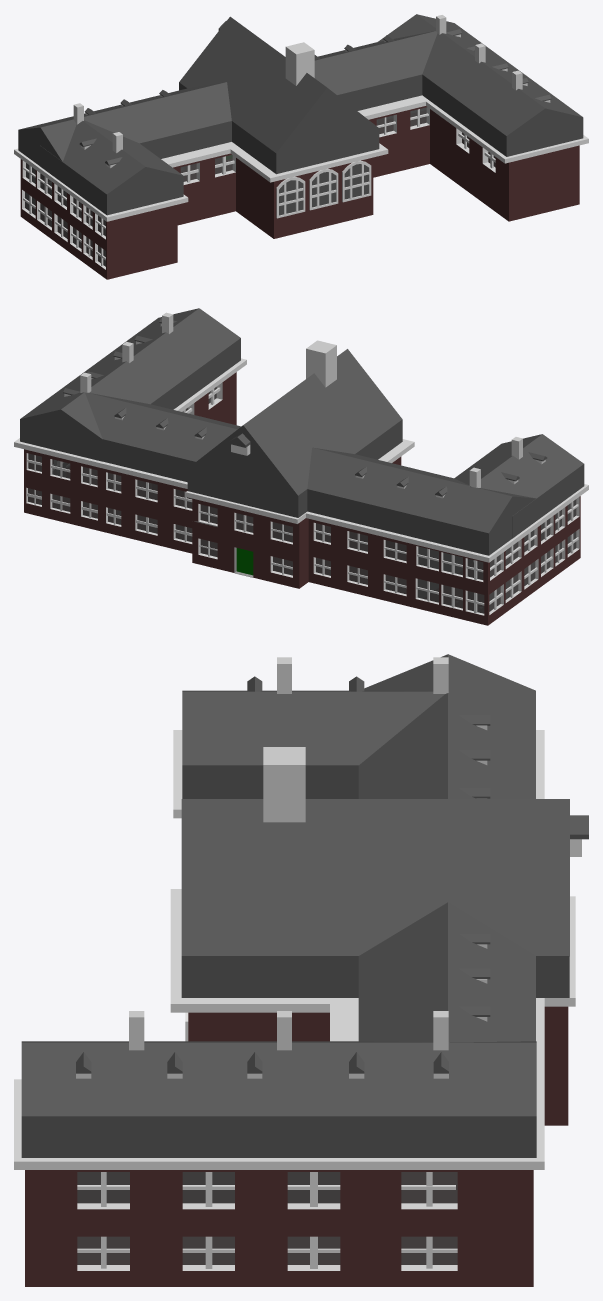
The model's file is TEXTILES BUILD.fbx.
3 views of the same model, one above another, from view 1: azimuth 30°, elevation 25°; view 2: azimuth 150°, elevation 25°; view 3: azimuth 270°, elevation 25° (orthographic). The views are drawn at different scales.
Visible parts, largest first — view 1: pCube1; view 2: pCube1; view 3: pCube1.
Part boxes in pixels (box(x1,y1,x2,y2)): pCube1: box(14, 14, 588, 279); pCube1: box(14, 308, 588, 625); pCube1: box(14, 654, 588, 1286).
Size of the model in its own units: 198 by 68.92 by 111.
